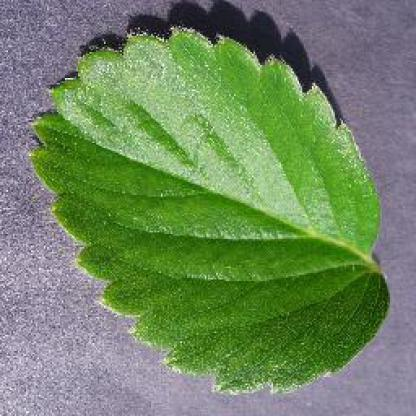healthy: (21, 20, 397, 402)
